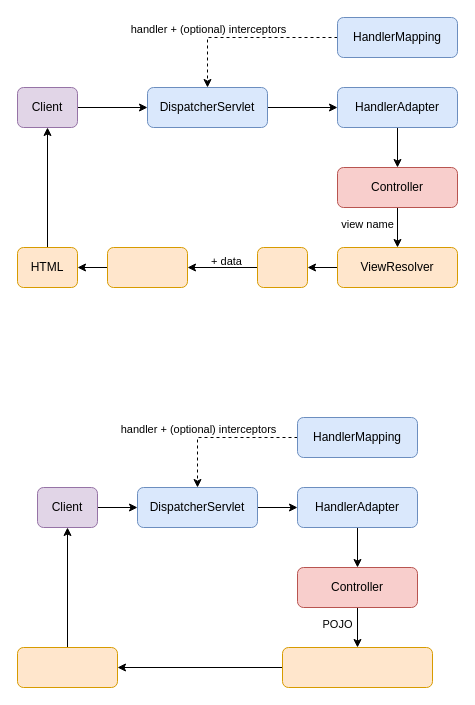
Some shapes in this 475 by 705 pixel diagram are drawn without their labels. The shapes that lost their labels are listed below. From the top down, each one's centre as x and y in pixels, then its label:
(147,267): View Engine
(282,267): View
(67,667): Response Body (JSON/XML)
(357,667): HttpMessageConverter
